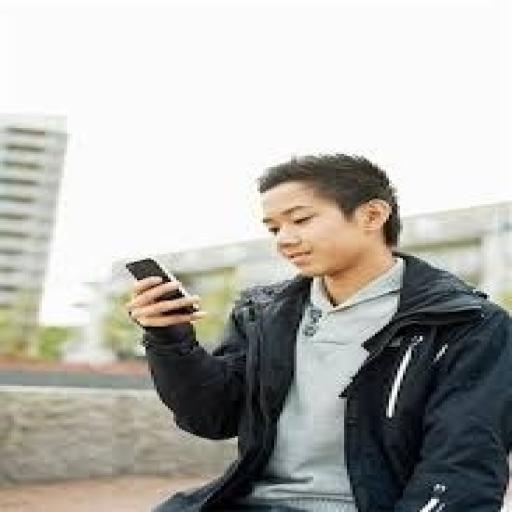texting: (120, 149, 510, 510)
